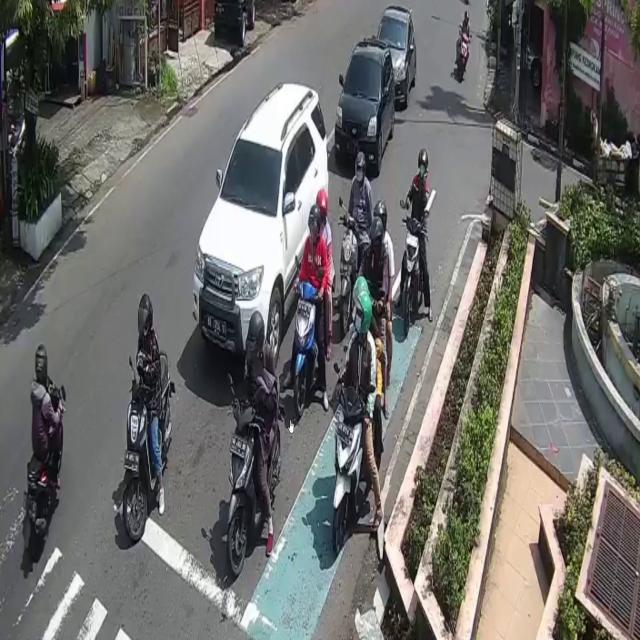bus: (228, 375, 280, 578), (128, 350, 174, 541), (22, 375, 63, 561), (334, 386, 366, 552), (296, 280, 318, 417), (404, 213, 426, 335), (338, 216, 358, 335), (459, 31, 471, 84)
motorcycle: (192, 80, 328, 374), (334, 39, 395, 177), (374, 5, 417, 107)
